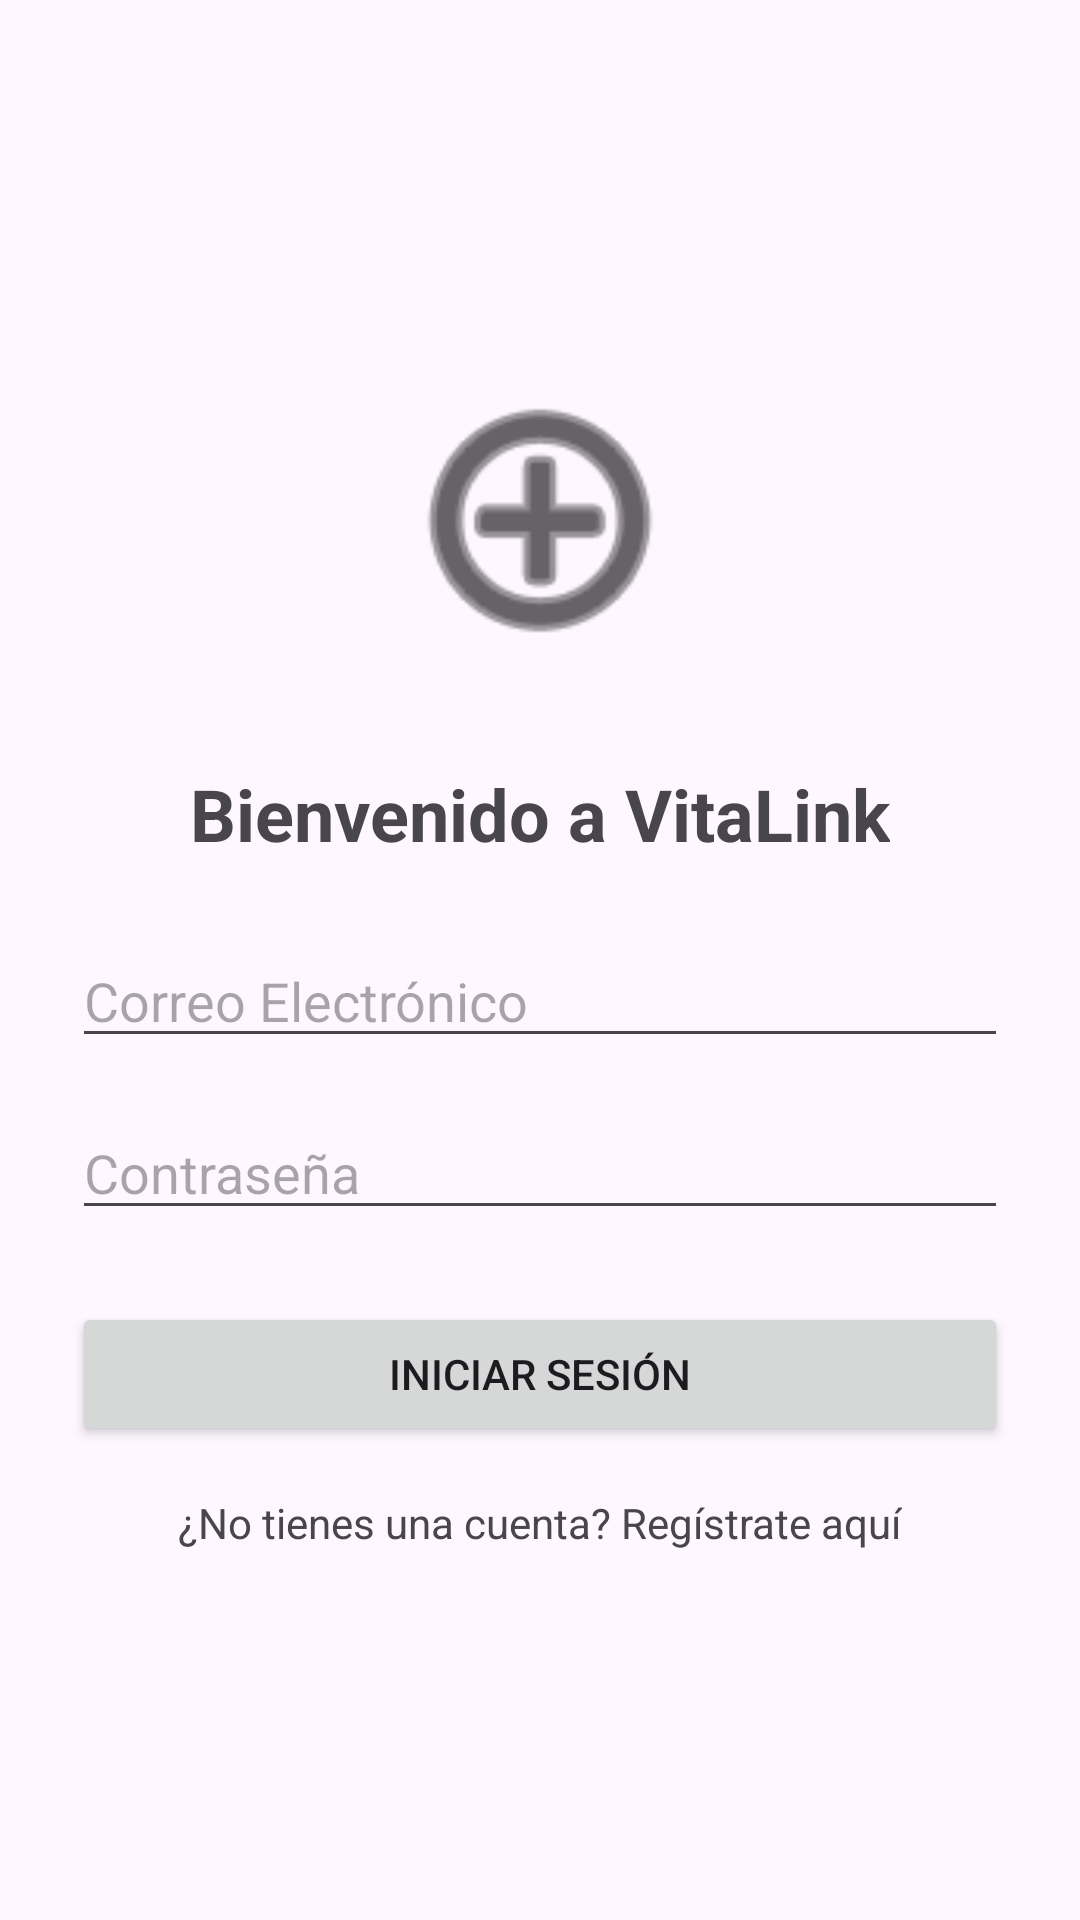

Screen size 1080 x 1920. Icon name, then its center in pixels as [x,y]:
add: [540,520]
